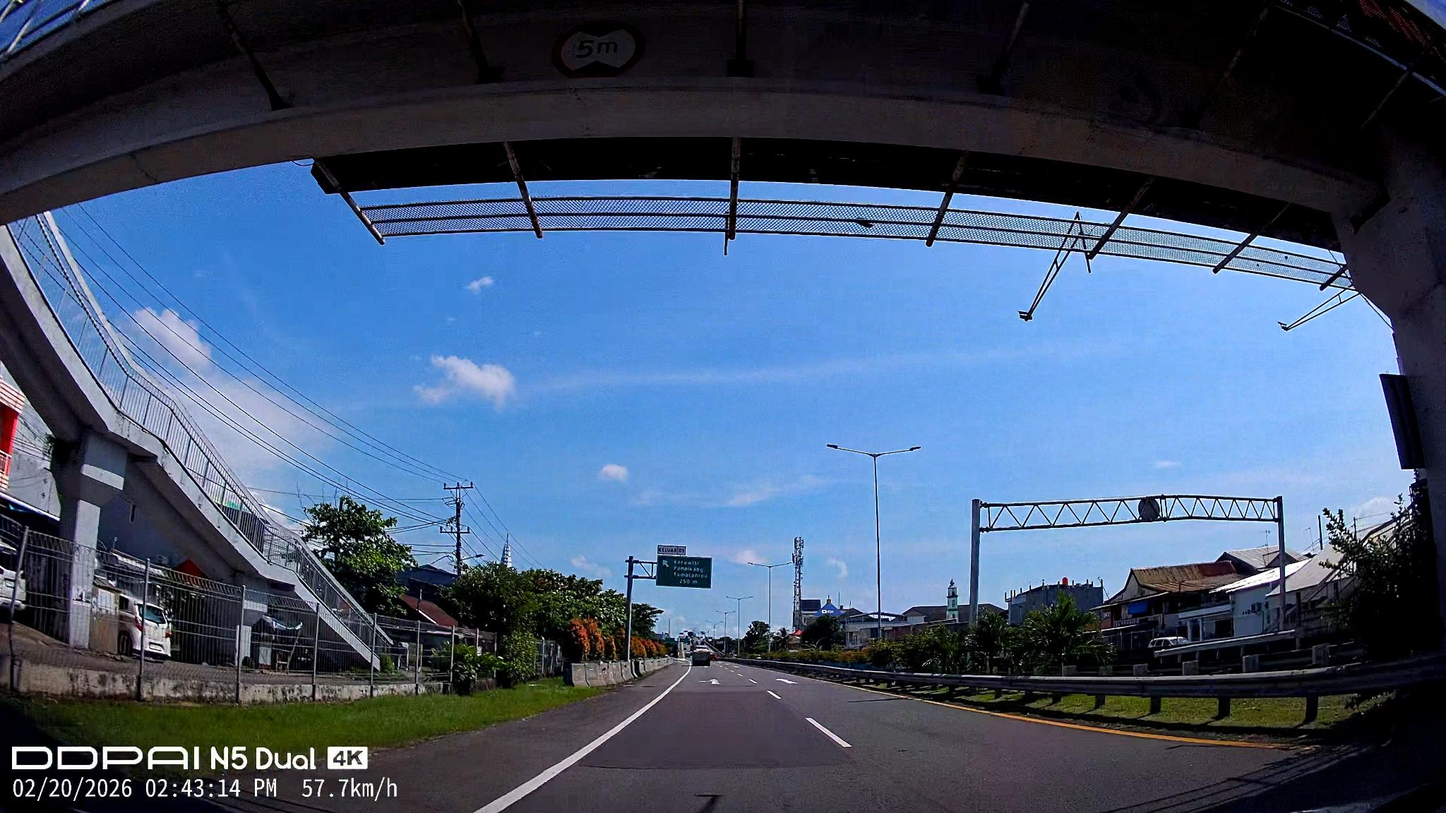rambu_teks: (657, 555, 712, 588)
